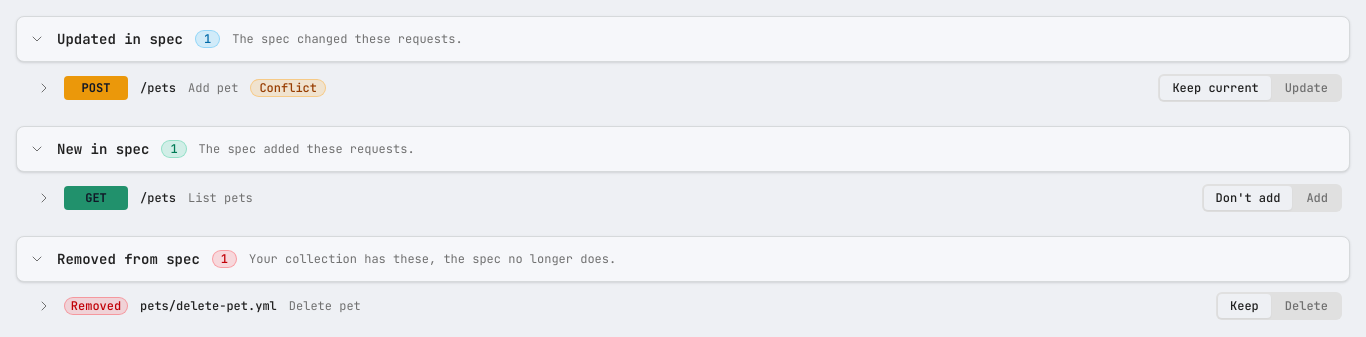
OpenApiSyncList › collapses a section
The image size is (1366, 337).
Check: the text "Add pet" is shown, box [188,80,238,96]
Click the button "Updated in spec 1 The spec changed these requests.".
click(120, 39)  # box [17,17,1349,61]
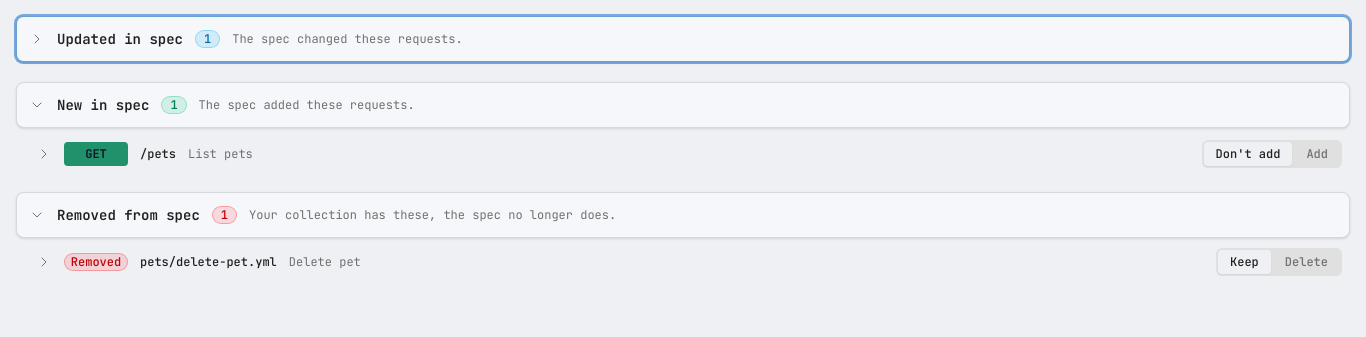
Check: the button "Add pet" is gone
